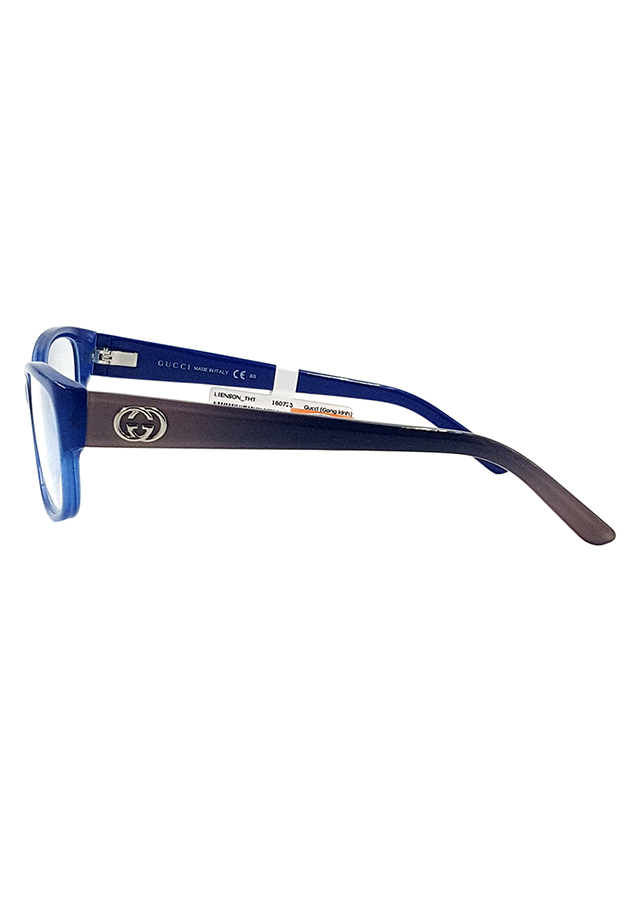Gucci: (111, 395, 172, 449), (153, 355, 191, 373)
